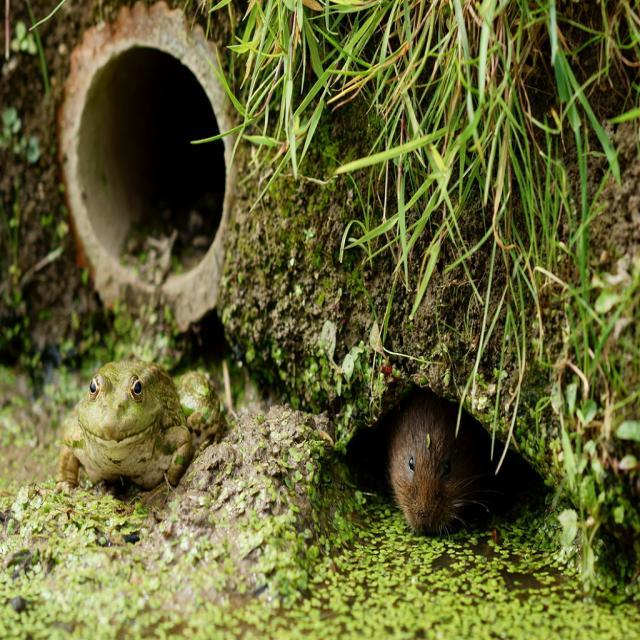rat: (371, 397, 536, 542)
